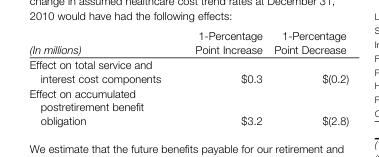table: (28, 28, 348, 126)
table column: (28, 28, 177, 126), (177, 28, 267, 126), (267, 28, 348, 126)
table column header: (28, 28, 348, 56)
table row: (28, 85, 348, 126), (28, 56, 348, 85), (28, 28, 348, 56)
